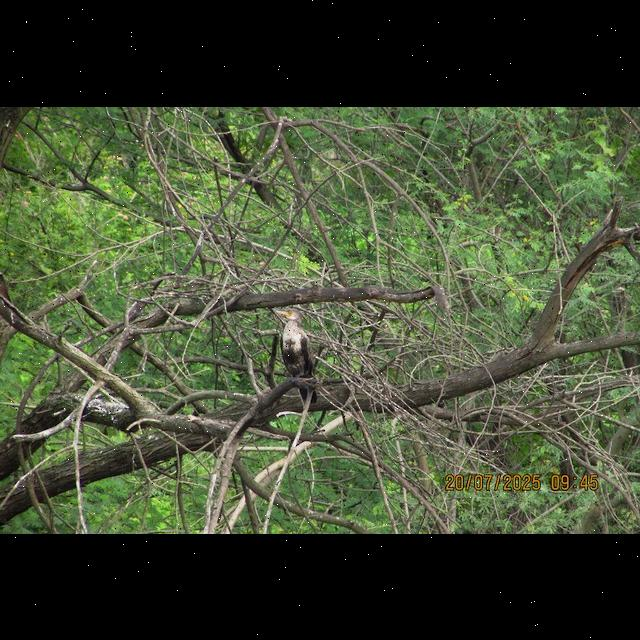cormorant: (272, 301, 322, 403)
